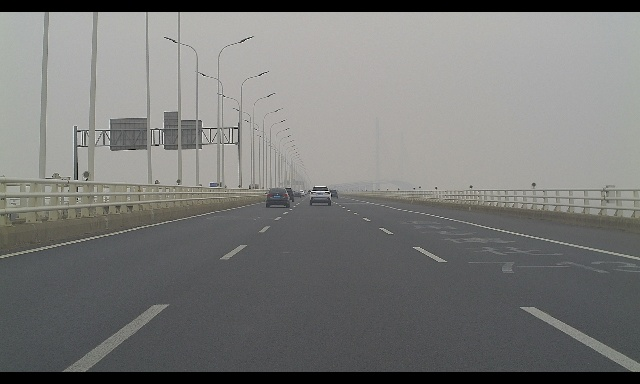car: (265, 187, 291, 208), (308, 186, 332, 205), (281, 187, 295, 202), (328, 190, 339, 199), (292, 190, 302, 198), (298, 190, 305, 197)
truck: (209, 182, 224, 192), (249, 184, 259, 192)
